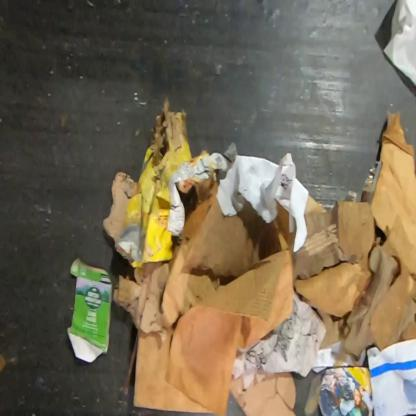cardboard: (112, 171, 297, 415), (292, 108, 415, 359), (118, 94, 210, 269), (66, 257, 114, 364), (102, 170, 140, 264), (231, 371, 299, 415)
soft_plastic: (359, 159, 382, 204)
